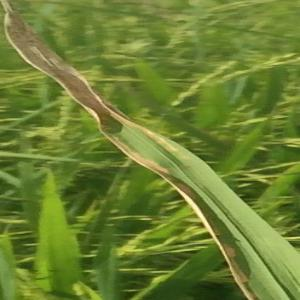Bacterial_Blight: (101, 101, 195, 198)
